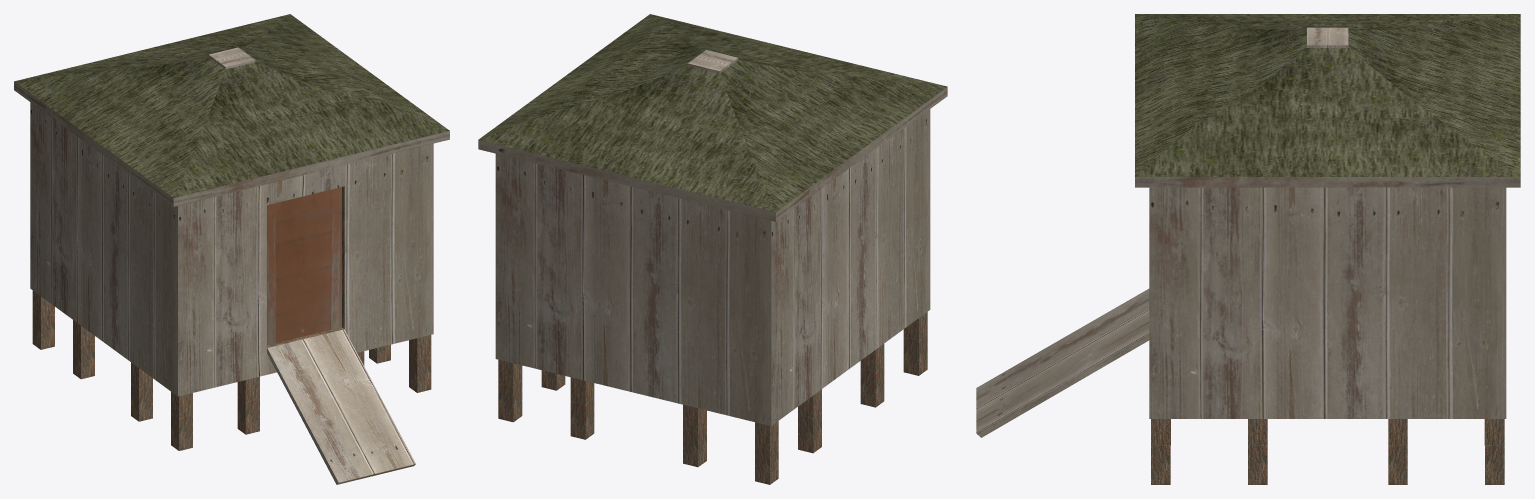
The model's file is grannery.obj.
3 renders of one model, left to right at view 1: azimuth 30°, elevation 25°; view 2: azimuth 150°, elevation 25°; view 3: azimuth 270°, elevation 25°, orthographic. The views are drawn at different scales.
Parts seen in each view (by area): view 1: Cube.002; view 2: Cube.002; view 3: Cube.002.
Part boxes in pixels (left/top/right/bottom): Cube.002: left=14, top=14, right=449, bottom=484; Cube.002: left=478, top=14, right=947, bottom=484; Cube.002: left=976, top=14, right=1520, bottom=484.
Bounding box in the file's own units: 2.44 × 2.64 × 3.44.
